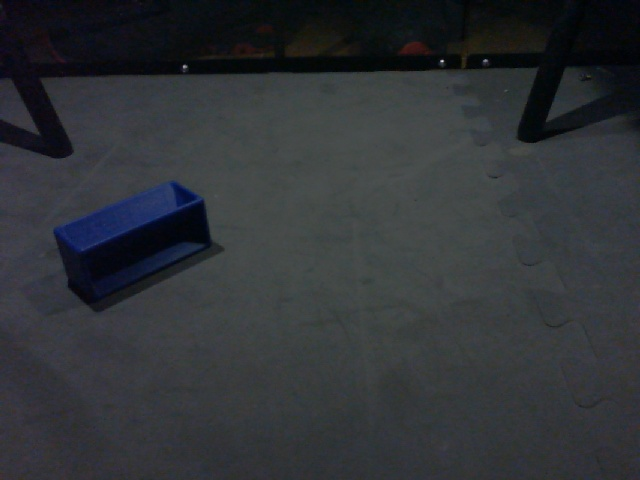BlueSample: (53, 177, 213, 303)
